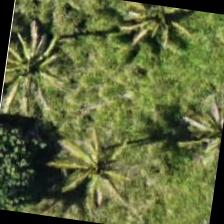Kelapa_Sawit: (49, 116, 151, 218), (101, 0, 199, 68), (0, 23, 66, 121)
